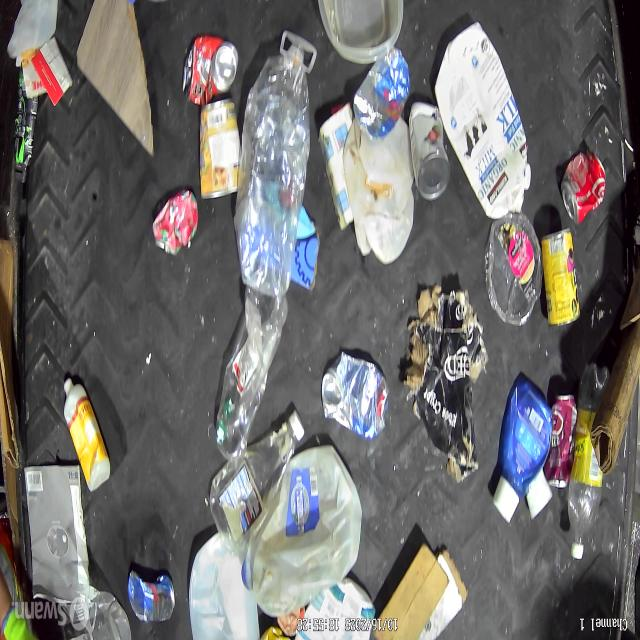can: (320, 351, 390, 439), (353, 48, 410, 144), (407, 102, 452, 202), (198, 98, 240, 200), (182, 37, 238, 107), (542, 228, 580, 327), (560, 154, 606, 226), (544, 394, 578, 488), (152, 190, 200, 256), (127, 571, 175, 621)
milk_jug: (240, 444, 362, 616), (434, 22, 530, 220), (342, 118, 414, 266), (188, 530, 260, 640)
plastic_bottle: (234, 41, 310, 298), (209, 410, 305, 556), (214, 296, 288, 460), (566, 364, 610, 560)
